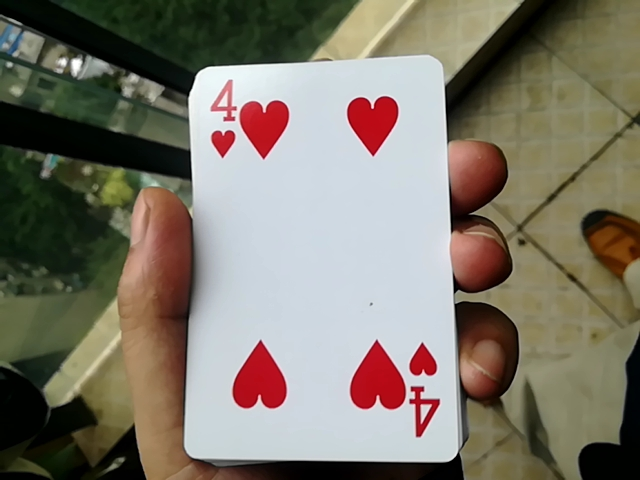hx 4: (173, 39, 462, 458)
